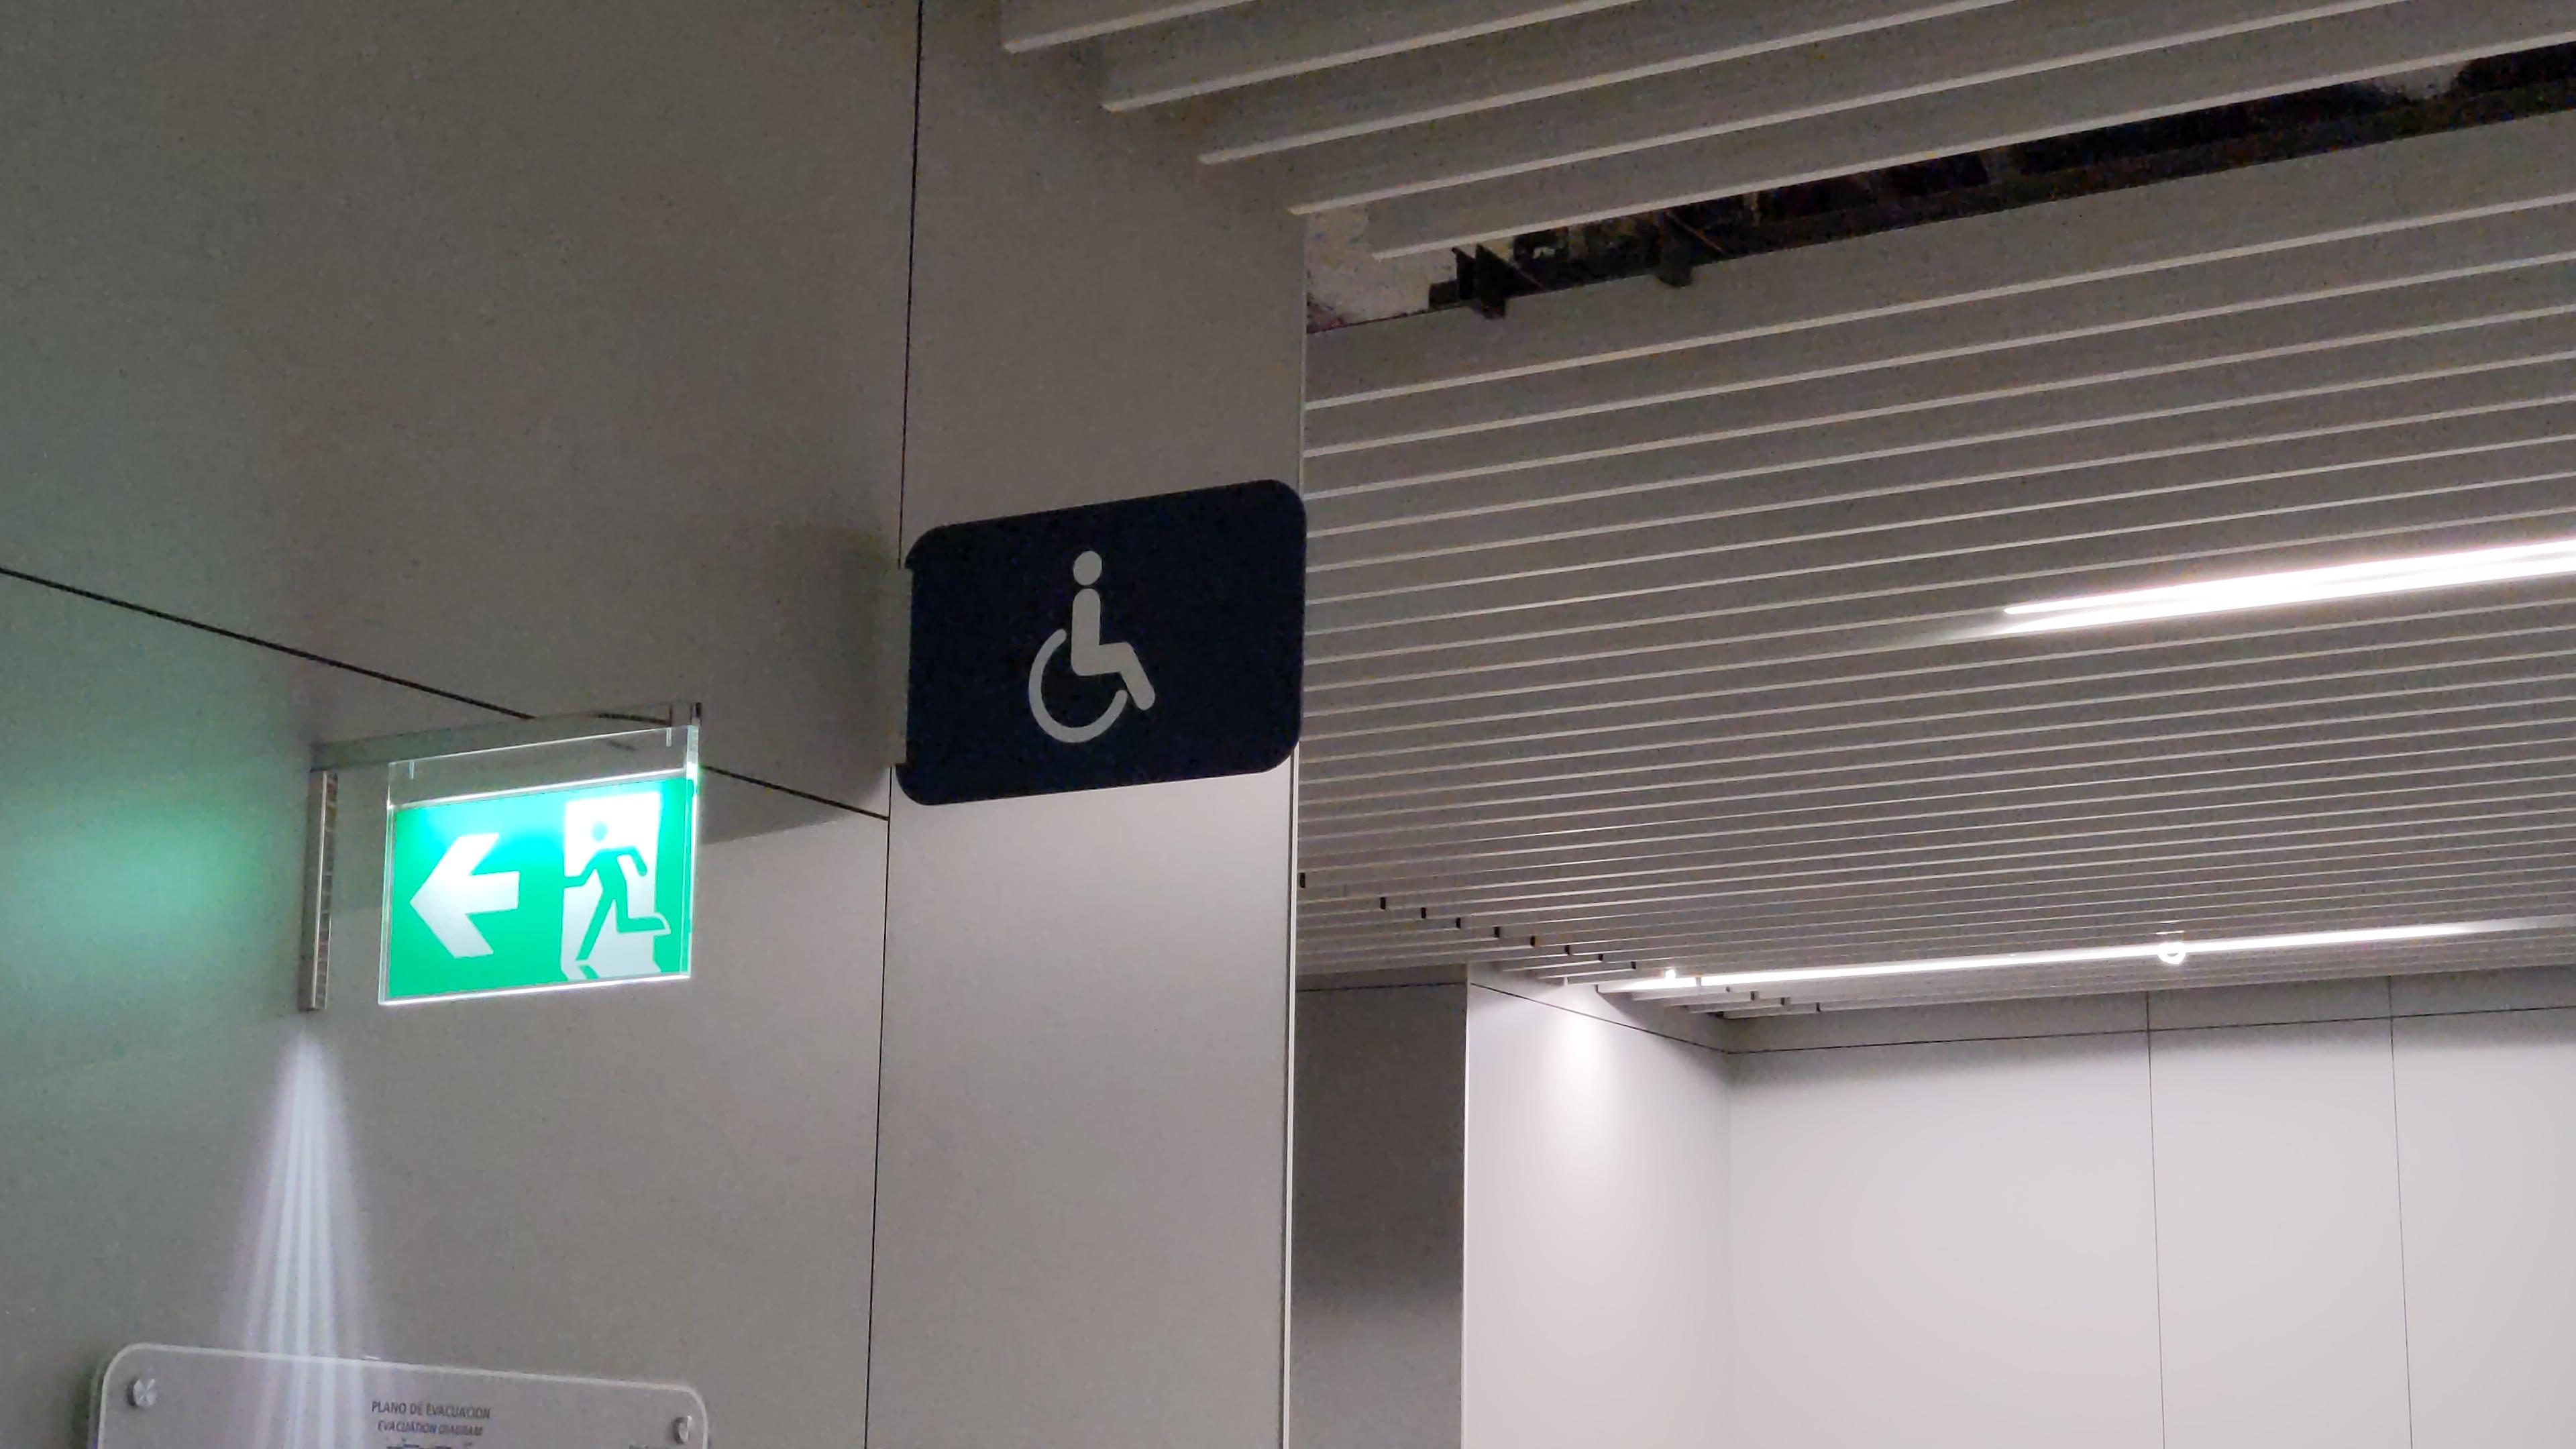emergency exit: (554, 786, 672, 987)
emergency left arrow: (407, 826, 531, 968)
handicapped symbol: (1019, 543, 1168, 752)
